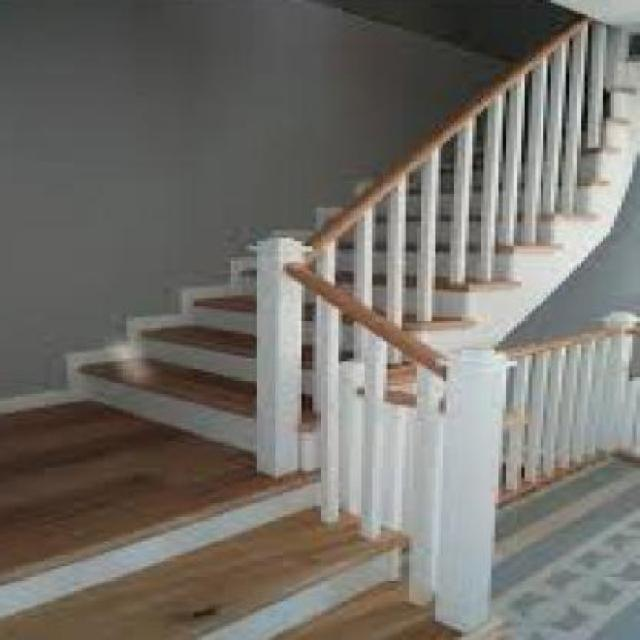stair: (3, 21, 640, 637)
